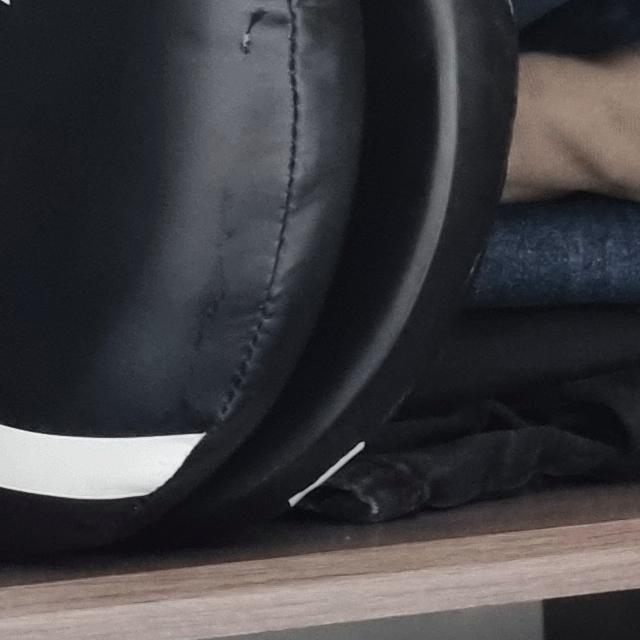paddle: (0, 0, 538, 560)
